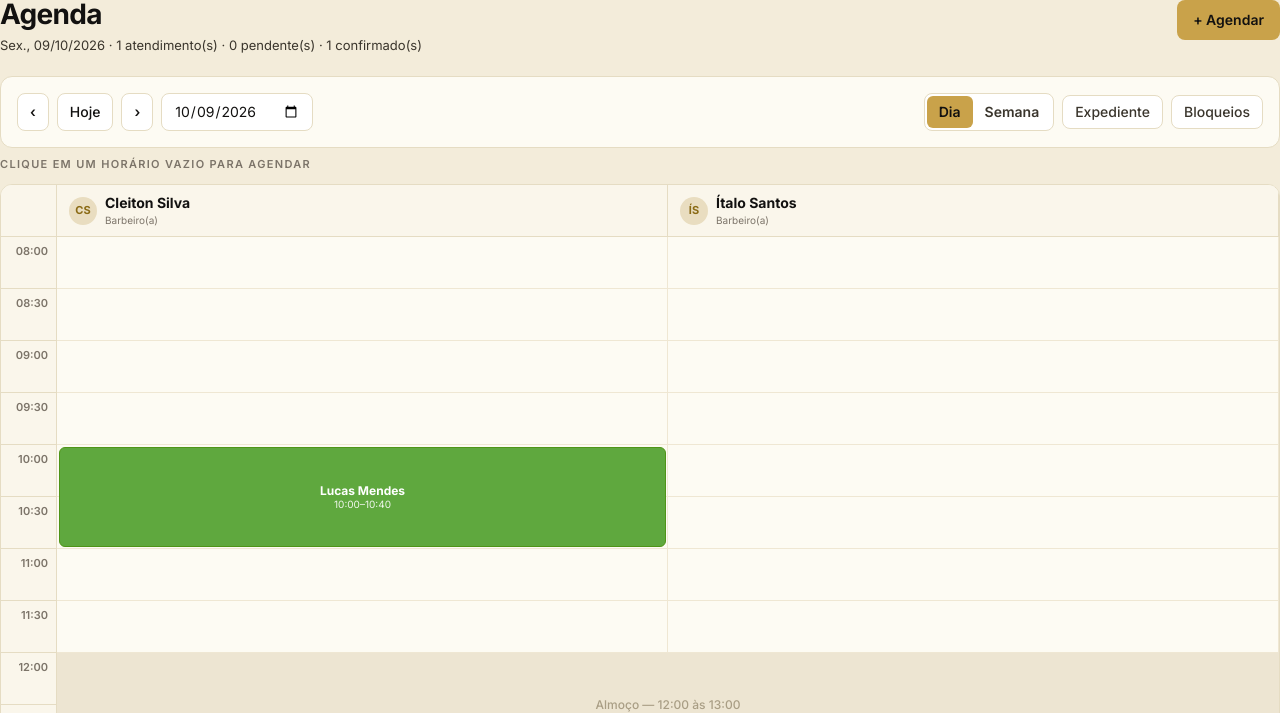
Test case: Agenda — remarcação pela interface › remarcar move o agendamento e preserva o histórico
The width and height of the screenshot is (1280, 713).
Click the text "Lucas Mendes": {"x": 362, "y": 491} top-left (320, 483), bottom-right (405, 498)
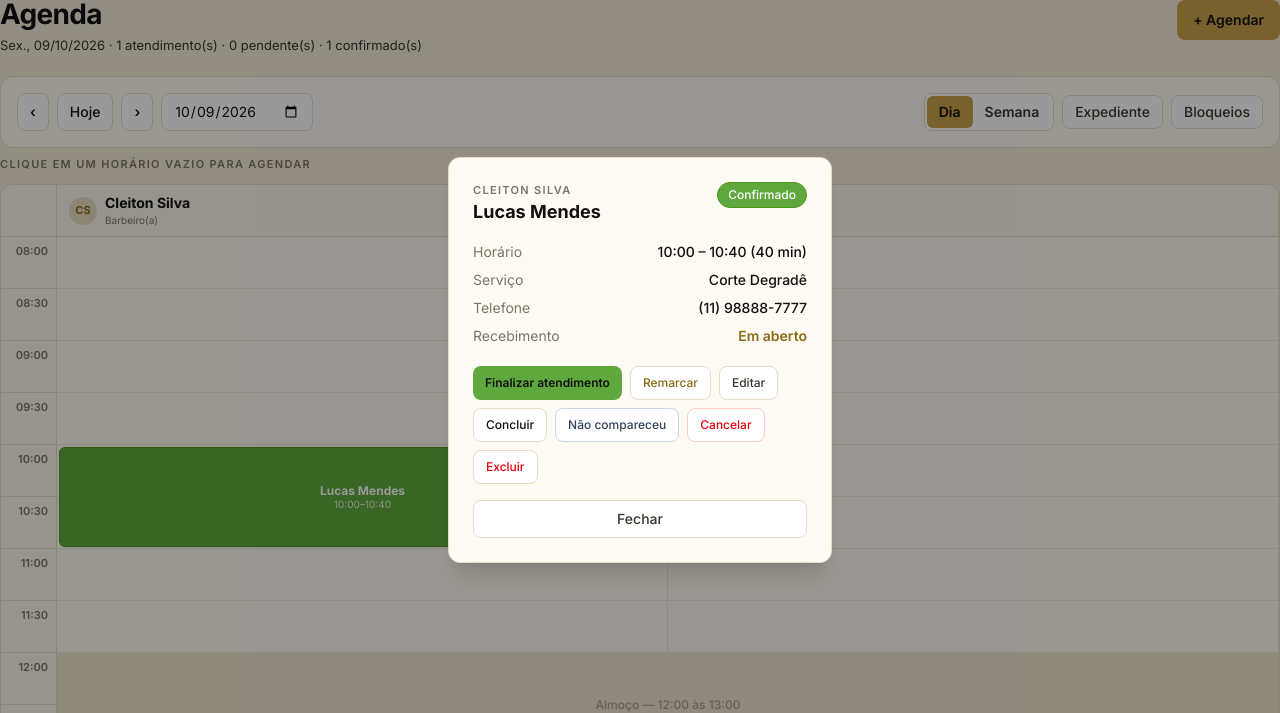
Click the button "Remarcar": {"x": 670, "y": 383} top-left (630, 366), bottom-right (711, 400)
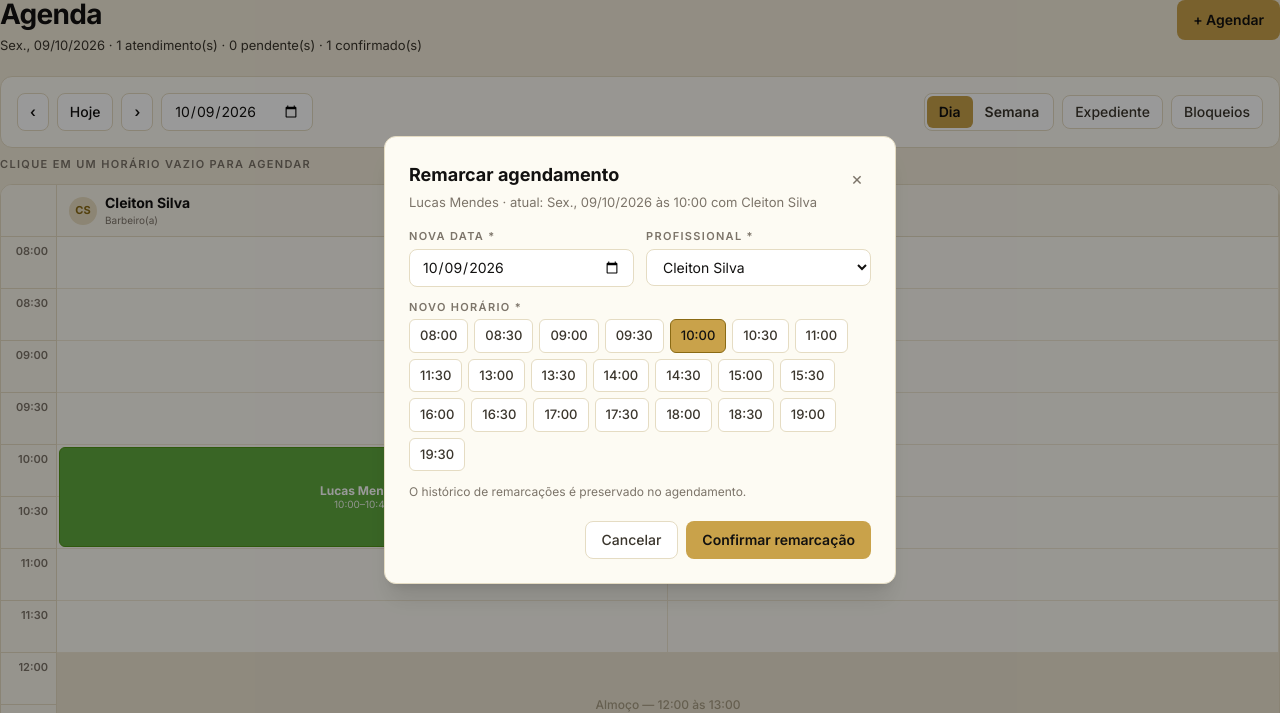
Result: the heading "Remarcar agendamento" is shown at top-left (409, 164), bottom-right (619, 185)
Click the button "11:00": {"x": 821, "y": 336} top-left (795, 319), bottom-right (848, 353)
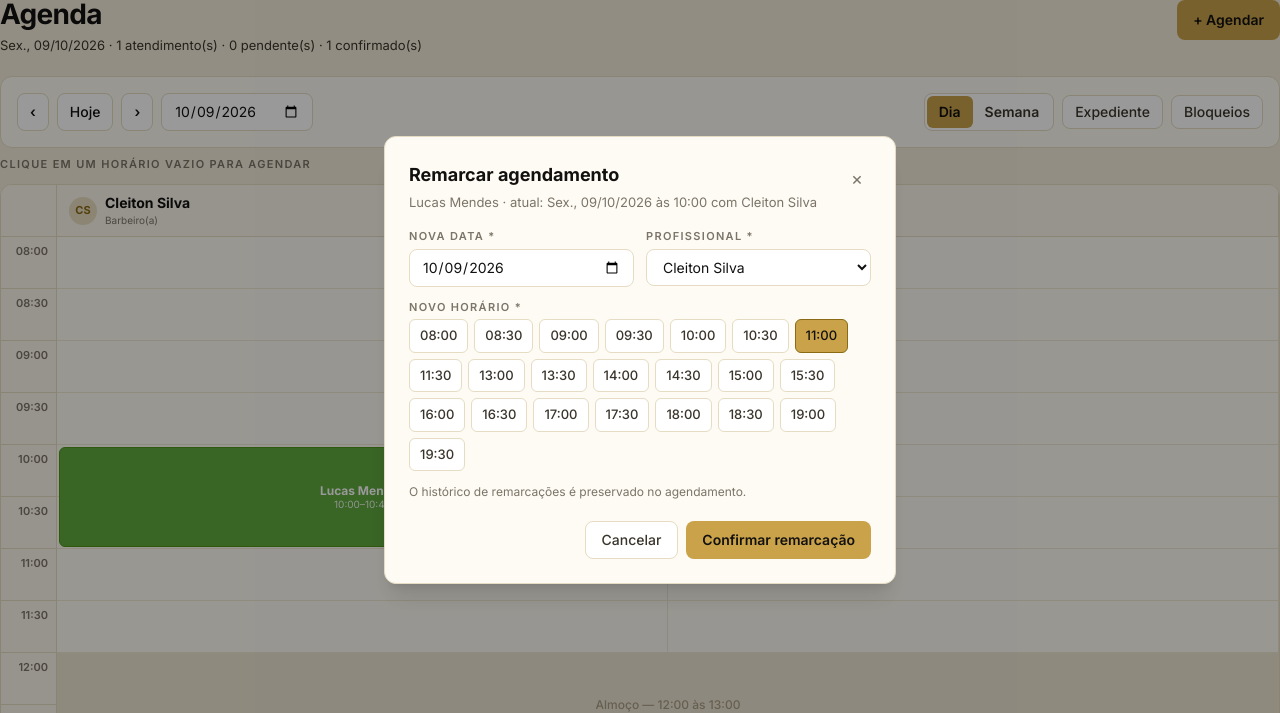
Click the button "Confirmar remarcação": {"x": 779, "y": 540} top-left (686, 521), bottom-right (871, 559)
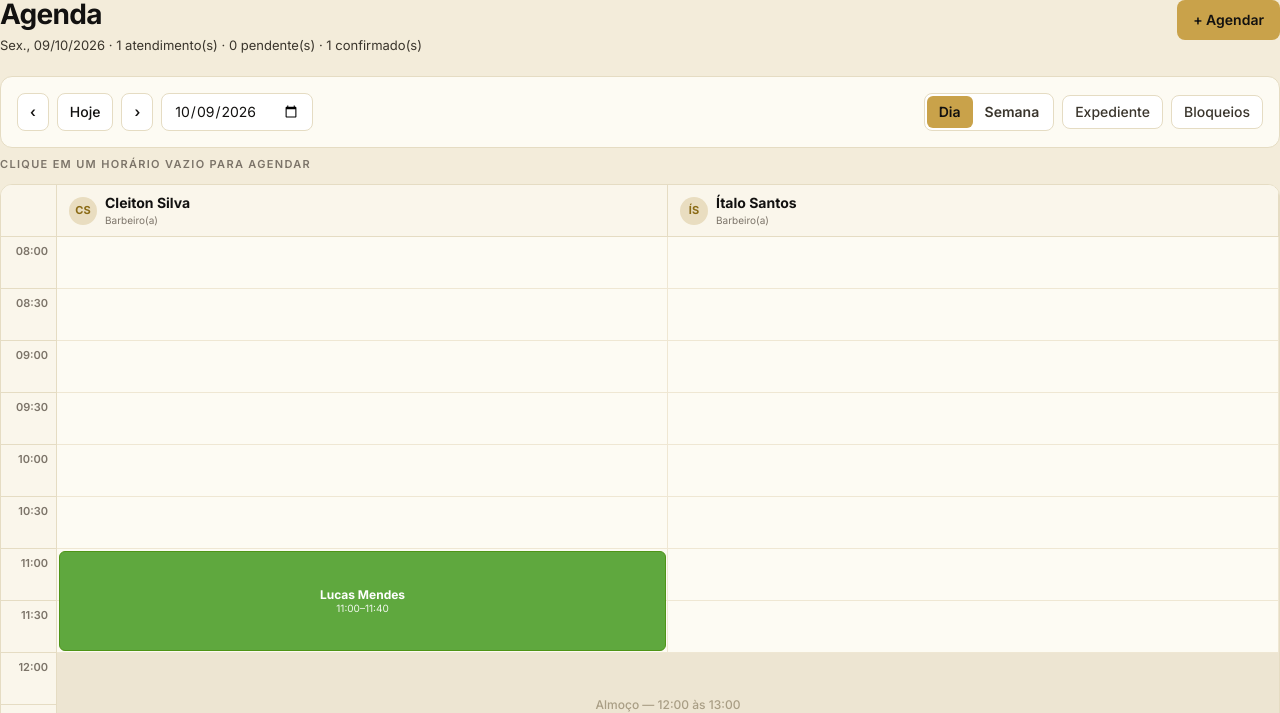
Result: the heading "Remarcar agendamento" is gone
